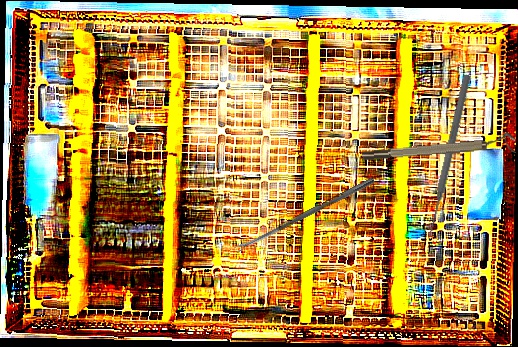Fixation Ring: (361, 131, 516, 164)
Pusher: (424, 73, 473, 238)
Surgical Spoon: (233, 176, 376, 253)
